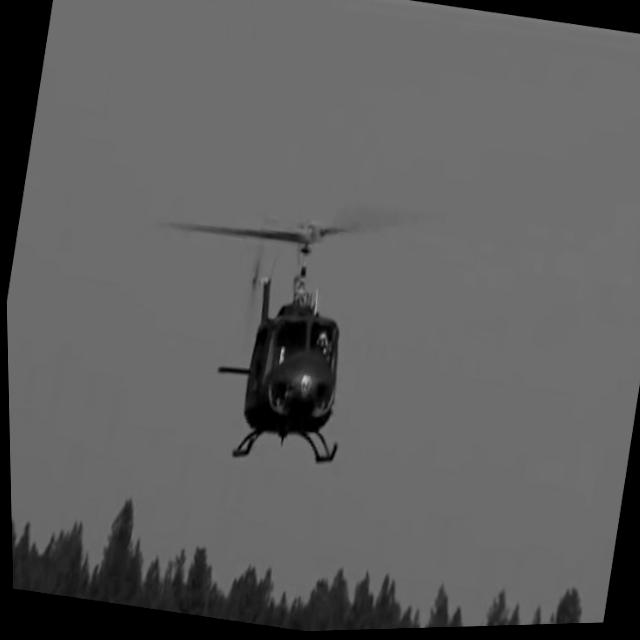helikopter: (151, 201, 420, 511)
